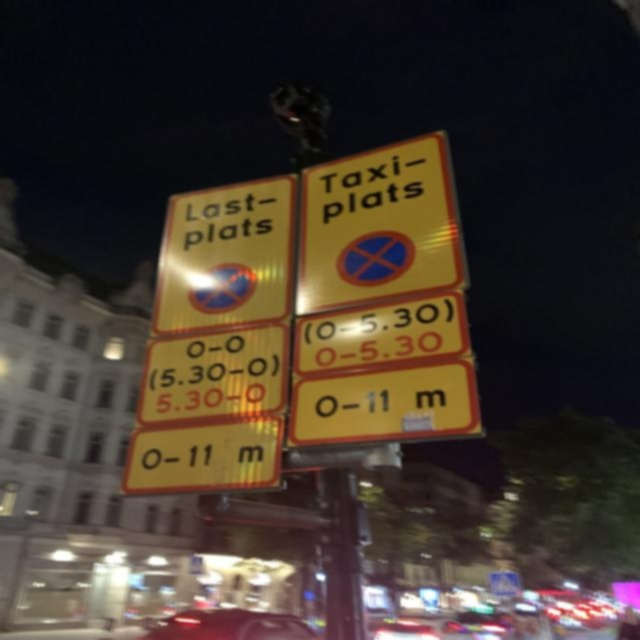lastplats: (145, 171, 301, 335)
